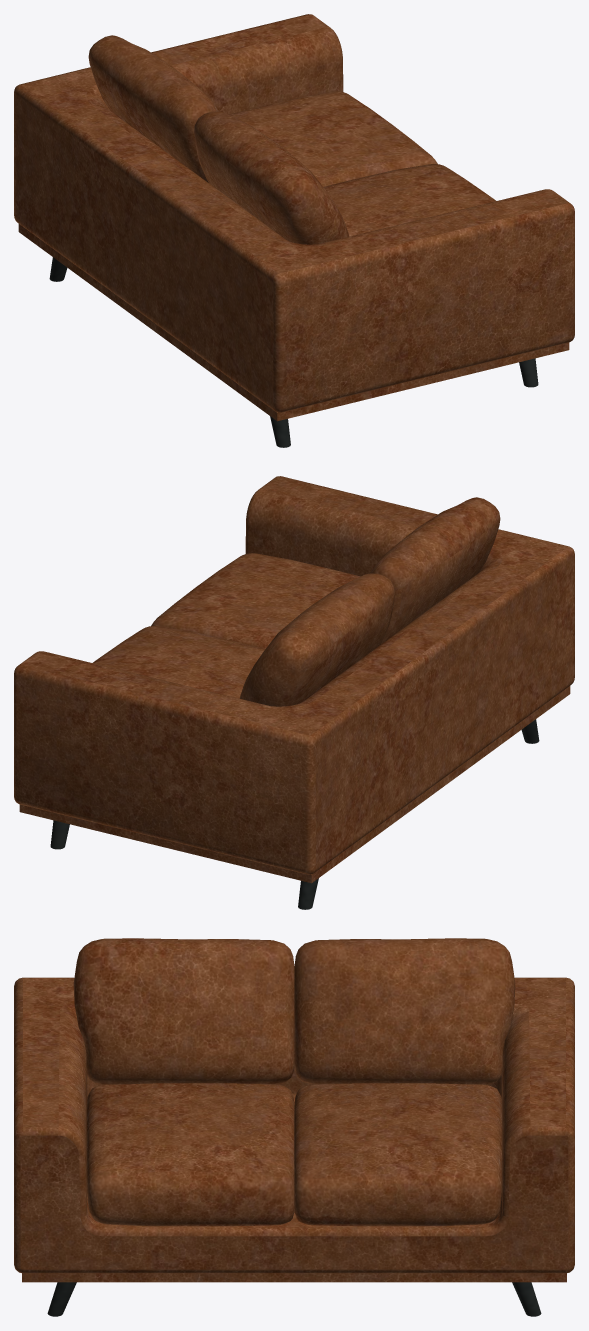
Rendered from seater2.fbx.
The picture shows the model from 3 angles, top to bottom: view 1: azimuth 30°, elevation 25°; view 2: azimuth 150°, elevation 25°; view 3: azimuth 270°, elevation 25°; orthographic projection. The views are drawn at different scales.
Parts seen in each view (by area): view 1: Vintage_two_seater_black, Vintage_two_seater_black.001; view 2: Vintage_two_seater_black, Vintage_two_seater_black.001; view 3: Vintage_two_seater_black, Vintage_two_seater_black.001.
Part boxes in pixels (x1,y1,x2,y2): Vintage_two_seater_black: [14, 14, 574, 421]; Vintage_two_seater_black.001: [49, 257, 538, 447]; Vintage_two_seater_black: [14, 476, 574, 883]; Vintage_two_seater_black.001: [50, 719, 539, 909]; Vintage_two_seater_black: [14, 938, 574, 1282]; Vintage_two_seater_black.001: [47, 1282, 541, 1316].
Bounding box in the file's own units: 3509 × 2780 × 5365.
2 materials, 2 textured.
